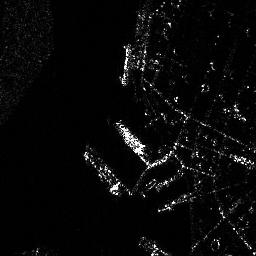ship: (82, 150, 124, 196), (111, 121, 150, 157), (120, 41, 132, 85)
